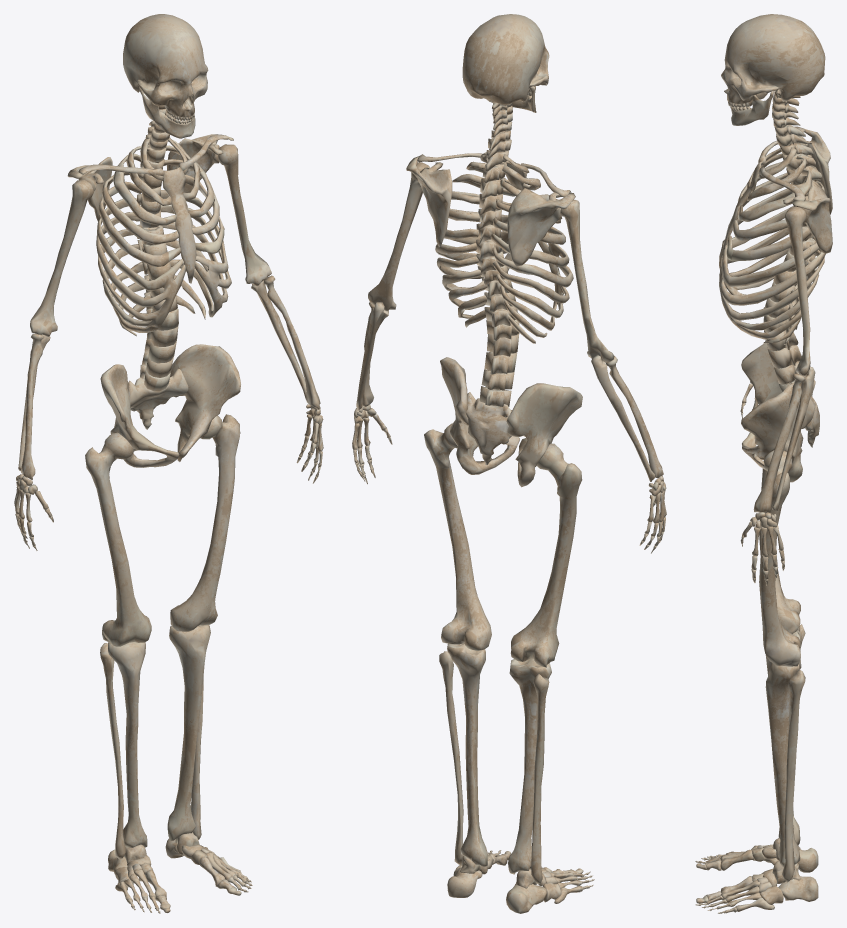
File: skeleton_pre-cut.glb
3 renders of one model, left to right at view 1: azimuth 30°, elevation 25°; view 2: azimuth 150°, elevation 25°; view 3: azimuth 270°, elevation 25°, orthographic.
Visible parts, largest first — view 1: SK_Side, SK_Coccyx, SK_Head, SK_LLegDown, SK_RLegDown, SK_RLegUp, SK_LLegUp, SK_Spine, SK_RArmUp, SK_RFoot, SK_LArmDown, SK_LFoot (+6 smaller); view 2: SK_Side, SK_Coccyx, SK_Spine, SK_Head, SK_RLegDown, SK_RLegUp, SK_LLegDown, SK_LLegUp, SK_RClavicle, SK_RFoot, SK_RArmDown, SK_LClavicle (+6 smaller); view 3: SK_Side, SK_Head, SK_LLegDown, SK_Coccyx, SK_Spine, SK_LLegUp, SK_LFoot, SK_LArmDown, SK_LClavicle, SK_LArmUp, SK_RFoot, SK_HandL (+3 smaller).
Boxes of the visible parts, x1,y1,x2,y2 form: SK_Side: [96, 137, 231, 336]; SK_Coccyx: [100, 344, 240, 467]; SK_Head: [123, 14, 208, 138]; SK_LLegDown: [167, 625, 210, 840]; SK_RLegDown: [100, 642, 147, 859]; SK_RLegUp: [85, 432, 151, 646]; SK_LLegUp: [170, 414, 240, 631]; SK_Spine: [136, 105, 178, 391]; SK_RArmUp: [30, 180, 93, 336]; SK_RFoot: [108, 844, 170, 913]; SK_LArmDown: [251, 275, 320, 409]; SK_LFoot: [165, 832, 252, 895]; SK_Side: [435, 152, 573, 343]; SK_Coccyx: [440, 357, 582, 487]; SK_Spine: [475, 103, 519, 406]; SK_Head: [462, 14, 549, 112]; SK_RLegDown: [508, 658, 551, 884]; SK_RLegUp: [510, 443, 582, 667]; SK_LLegDown: [439, 643, 487, 867]; SK_LLegUp: [424, 423, 491, 650]; SK_RClavicle: [507, 163, 575, 266]; SK_RFoot: [506, 867, 594, 913]; SK_RArmDown: [591, 355, 663, 481]; SK_LClavicle: [406, 153, 482, 247]; SK_Side: [719, 144, 825, 344]; SK_Head: [721, 14, 825, 125]; SK_LLegDown: [765, 660, 805, 882]; SK_Coccyx: [741, 343, 819, 482]; SK_Spine: [763, 91, 825, 392]; SK_LLegUp: [759, 450, 800, 666]; SK_LFoot: [695, 861, 818, 913]; SK_LArmDown: [753, 366, 815, 512]; SK_LClavicle: [758, 167, 832, 253]; SK_LArmUp: [784, 206, 810, 375]; SK_RFoot: [695, 838, 818, 872]; SK_HandL: [740, 512, 784, 585].
Size of the model in its own units: 1.23 by 3.36 by 0.483.
1 material, 1 textured.
